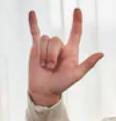back: (23, 5, 105, 97)
